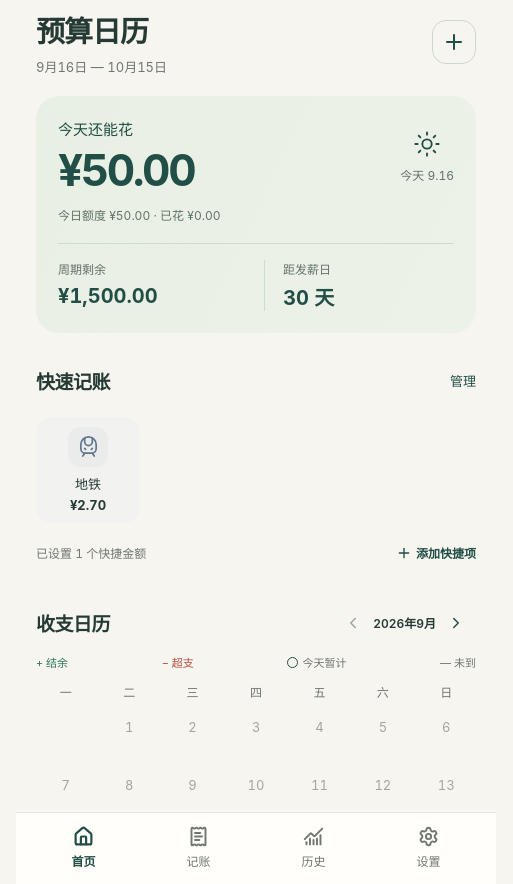
it: hybrid home › keeps the page mounted while saving, updates remaining money and really undoes the entry
Click the button "地铁 ¥2.70": (88, 470) [36,417,140,523]
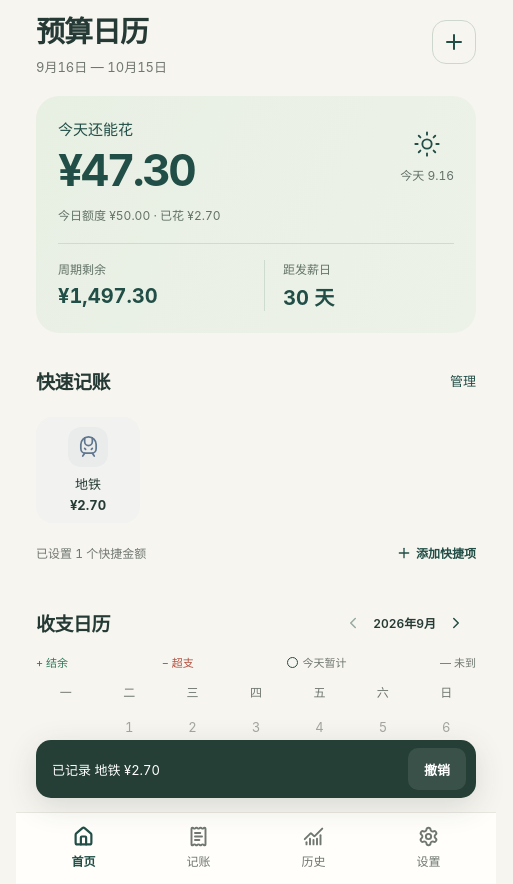
Check: the message shows "地铁", box [52,762,160,778]
Check: the text "¥47.30" is shown, box [58,145,194,196]
Click the button "撤销": (437, 769) [408,748,466,790]
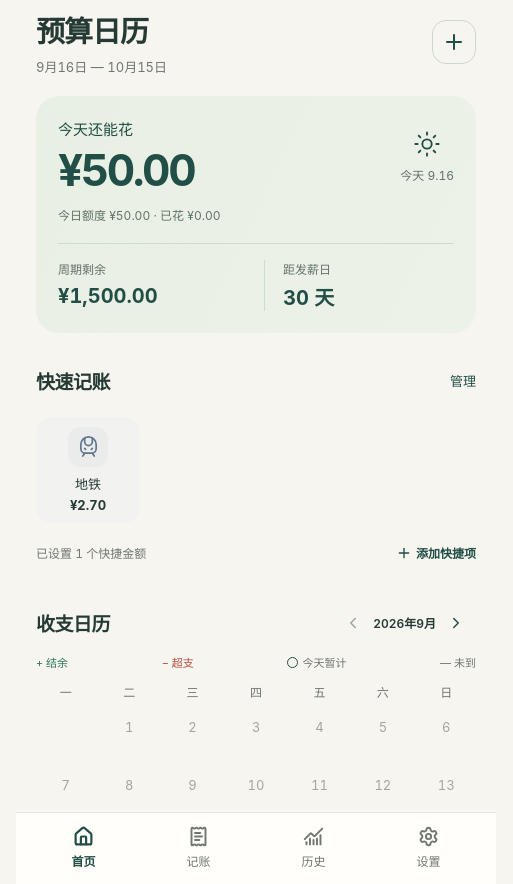
Check: the button "撤销" is gone
